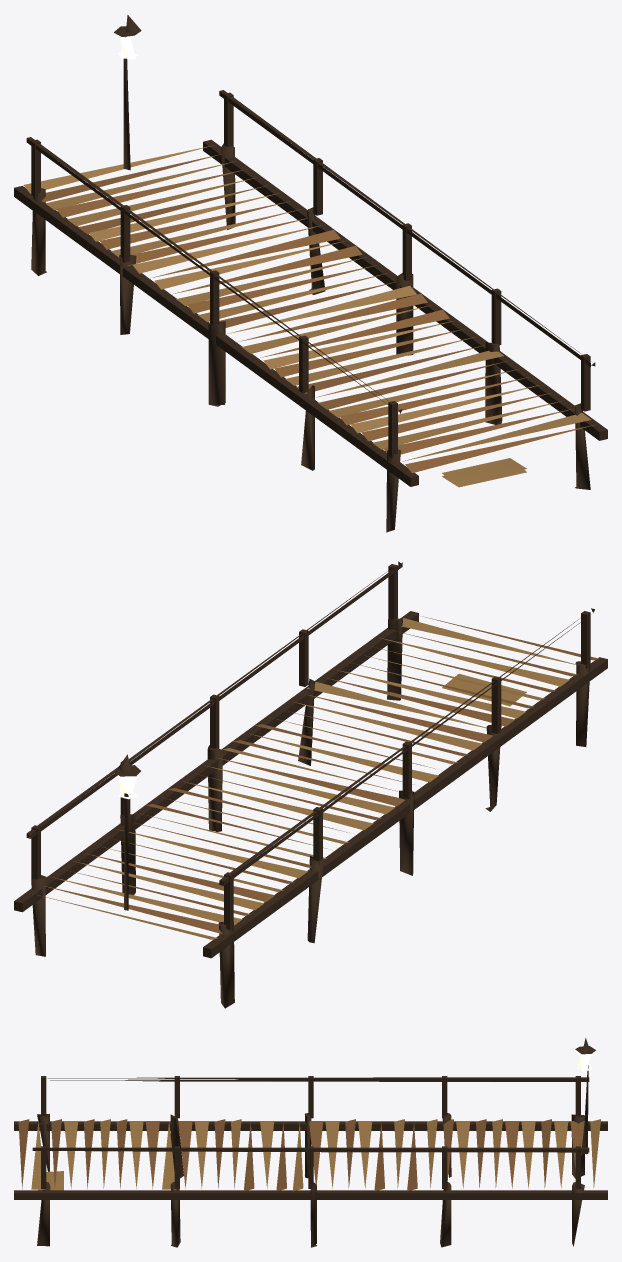
The model's file is lod_lake_pier.glb.
3 renders of one model, top to bottom at view 1: azimuth 30°, elevation 25°; view 2: azimuth 150°, elevation 25°; view 3: azimuth 270°, elevation 25°, orthographic. The views are drawn at different scales.
Visible parts, largest first — view 1: lake_pier; view 2: lake_pier; view 3: lake_pier.
Boxes of the visible parts, bbox=[...] form: lake_pier: bbox=[14, 15, 607, 532]; lake_pier: bbox=[14, 561, 607, 1008]; lake_pier: bbox=[14, 1038, 607, 1247].
Bounding box in the file's own units: 2.38 × 2.57 × 8.
